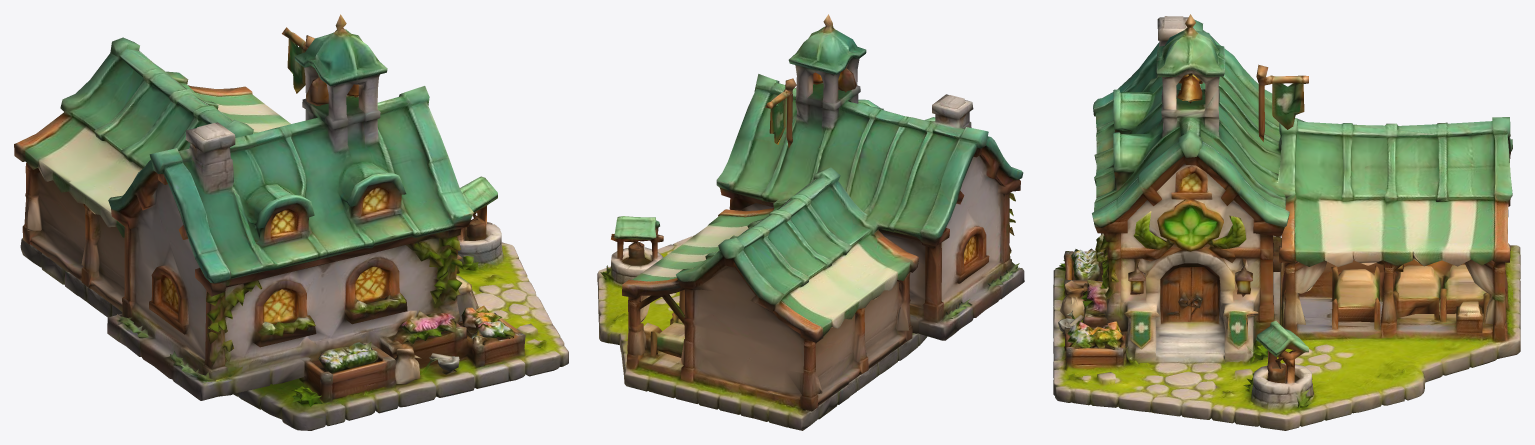
File: hospital.glb
The picture shows the model from 3 angles, left to right: view 1: azimuth 30°, elevation 25°; view 2: azimuth 150°, elevation 25°; view 3: azimuth 270°, elevation 25°; orthographic projection. The views are drawn at different scales.
Parts seen in each view (by area): view 1: tripo_node_db7d26ce-e023-4543-8a82-8d62856382f5; view 2: tripo_node_db7d26ce-e023-4543-8a82-8d62856382f5; view 3: tripo_node_db7d26ce-e023-4543-8a82-8d62856382f5.
Boxes of the visible parts, x1=… form: tripo_node_db7d26ce-e023-4543-8a82-8d62856382f5: x1=14, y1=14, x2=568, y2=430; tripo_node_db7d26ce-e023-4543-8a82-8d62856382f5: x1=597, y1=14, x2=1024, y2=430; tripo_node_db7d26ce-e023-4543-8a82-8d62856382f5: x1=1053, y1=14, x2=1520, y2=430.
Bounding box in the file's own units: 0.9526 × 0.7494 × 1.
1 material, 1 textured.
